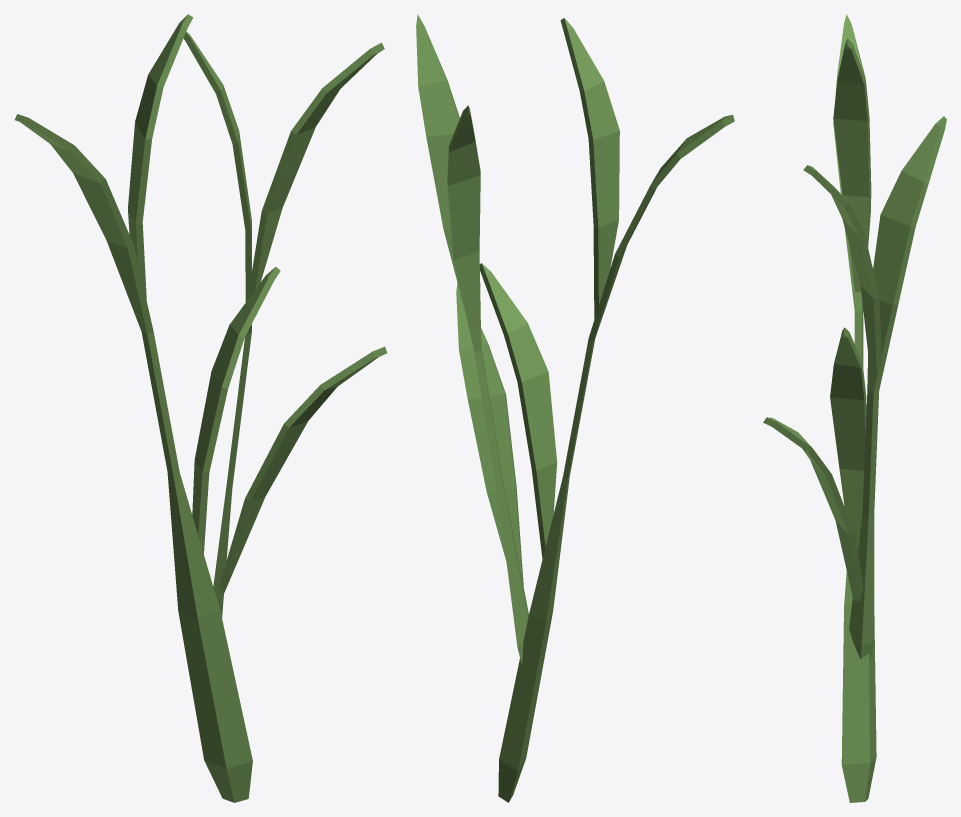
Rendered from Rice_2.glb.
The picture shows the model from 3 angles, left to right: view 1: azimuth 30°, elevation 25°; view 2: azimuth 150°, elevation 25°; view 3: azimuth 270°, elevation 25°; orthographic projection. The views are drawn at different scales.
Visible parts, largest first — view 1: Rice_2.obj; view 2: Rice_2.obj; view 3: Rice_2.obj.
Part boxes in pixels (bbox=[...]): Rice_2.obj: bbox=[14, 14, 387, 802]; Rice_2.obj: bbox=[416, 14, 734, 802]; Rice_2.obj: bbox=[763, 14, 946, 802].
Size of the model in its own units: 0.2547 by 0.5648 by 0.1272.
